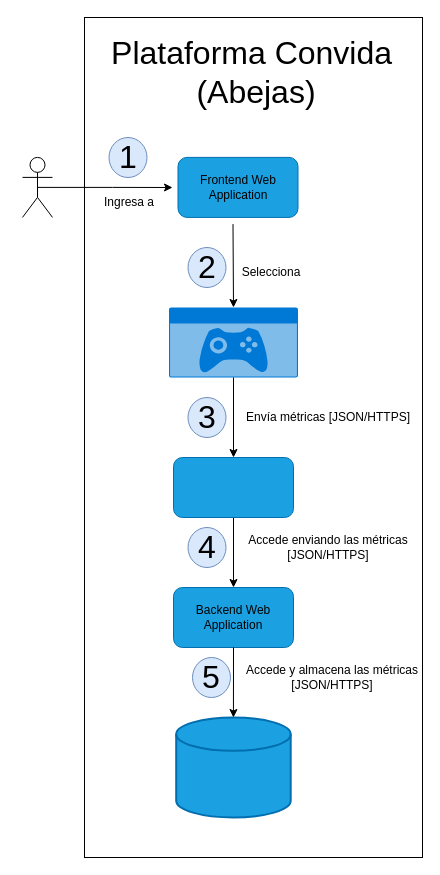
Some shapes in this 440 by 875 pixel diagram are drawn without their labels. Here are the shapes that lost their labels. From the top down, the centre of each, then its label:
(x=37, y=186): Usuario
(x=233, y=342): Defiende la colmena
(x=233, y=487): API Convida
(x=233, y=767): Base de datos orientada a objetos
